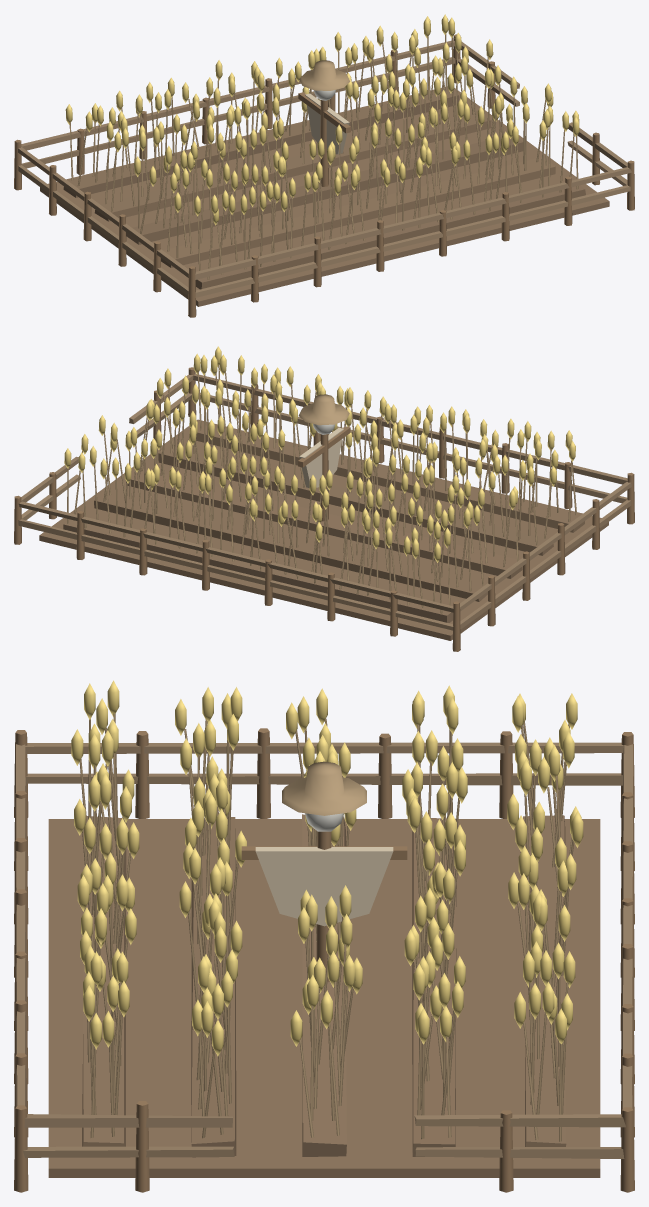
Rendered from civ.field.glb.
3 views of the same model, one above another, from view 1: azimuth 30°, elevation 25°; view 2: azimuth 150°, elevation 25°; view 3: azimuth 270°, elevation 25° (orthographic). The views are drawn at different scales.
Parts seen in each view (by area): view 1: Earth, FruitGold, Twig, Wood, Log, Paint; view 2: Earth, FruitGold, Twig, Wood, Log, Paint; view 3: Earth, FruitGold, Twig, Wood, Log, Paint.
Boxes of the visible parts, left/top/right/bottom form: Earth: left=40, top=86, right=609, bottom=306; FruitGold: left=65, top=14, right=579, bottom=225; Twig: left=69, top=34, right=578, bottom=279; Wood: left=18, top=40, right=632, bottom=297; Log: left=14, top=34, right=634, bottom=317; Paint: left=305, top=93, right=349, bottom=154; Earth: left=39, top=419, right=608, bottom=640; FruitGold: left=64, top=346, right=575, bottom=562; Twig: left=67, top=364, right=576, bottom=613; Wood: left=18, top=373, right=631, bottom=630; Log: left=14, top=367, right=634, bottom=651; Paint: left=299, top=427, right=343, bottom=487; Earth: left=48, top=814, right=600, bottom=1177; FruitGold: left=71, top=680, right=583, bottom=1056; Twig: left=79, top=713, right=574, bottom=1141; Wood: left=16, top=742, right=633, bottom=1158; Log: left=14, top=728, right=634, bottom=1192; Paint: left=255, top=847, right=393, bottom=926.
Bounding box in the file's own units: 2.6 × 0.76 × 1.8.
